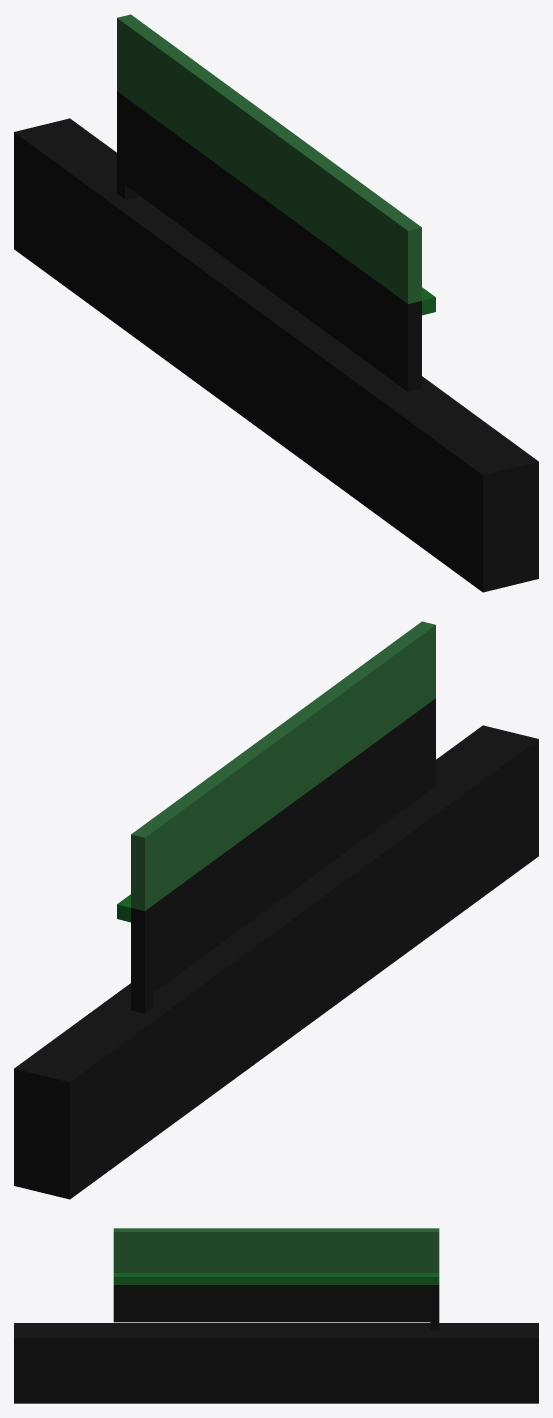
Rendered from hybrid_suv_front_bumper.glb.
The picture shows the model from 3 angles, top to bottom: view 1: azimuth 30°, elevation 25°; view 2: azimuth 150°, elevation 25°; view 3: azimuth 270°, elevation 25°; orthographic projection. The views are drawn at different scales.
Parts seen in each view (by area): view 1: body:compound; view 2: body:compound; view 3: body:compound.
Boxes of the visible parts, left/top/right/bottom form: body:compound: left=14, top=14, right=538, bottom=592; body:compound: left=14, top=621, right=538, bottom=1199; body:compound: left=14, top=1228, right=538, bottom=1403.
Bounding box in the file's own units: 0.125 × 0.625 × 1.81.
